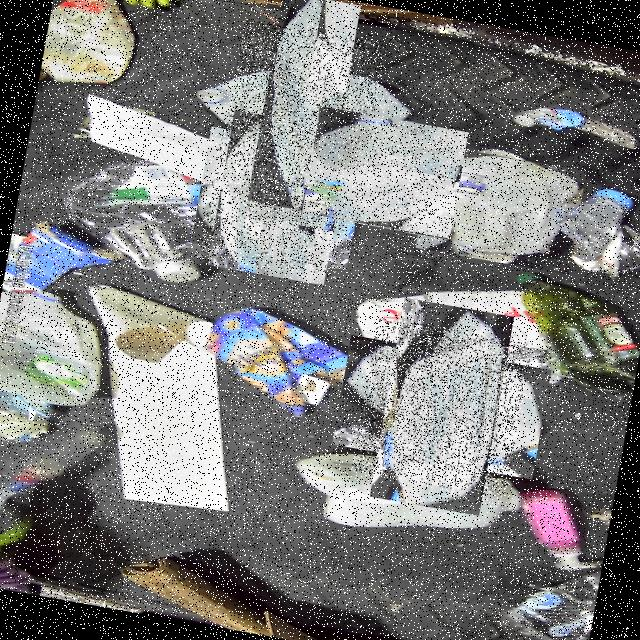milk-jug: (349, 316, 532, 498), (218, 18, 386, 186), (198, 118, 358, 278), (300, 106, 468, 240), (414, 144, 585, 274)
